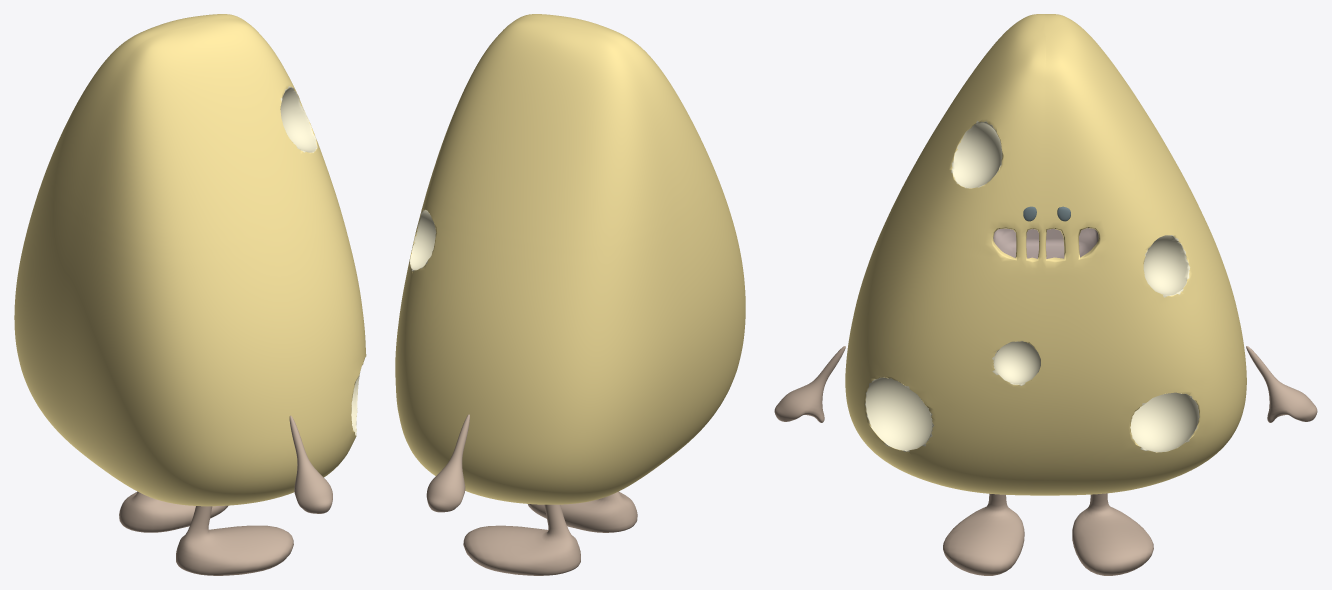
File: jerry.fbx
3 views of the same model, side by side, from view 1: azimuth 30°, elevation 25°; view 2: azimuth 150°, elevation 25°; view 3: azimuth 270°, elevation 25° (orthographic).
Visible parts, largest first — view 1: pasted__pSphere16, pasted__pSphere18, pasted__pSphere17, pasted__pasted__pSphere16; view 2: pasted__pSphere16, pasted__pSphere17, pasted__pSphere18, pasted__pasted__pSphere17; view 3: pasted__pSphere16, pasted__pSphere17, pasted__pSphere18, pasted__pasted__pSphere16, pasted__pasted__pSphere17.
Boxes of the visible parts, x1=… form: pasted__pSphere16: x1=14, y1=14, x2=366, y2=506; pasted__pSphere18: x1=176, y1=506, x2=293, y2=575; pasted__pSphere17: x1=119, y1=491, x2=228, y2=532; pasted__pasted__pSphere16: x1=289, y1=415, x2=332, y2=513; pasted__pSphere16: x1=395, y1=14, x2=745, y2=504; pasted__pSphere17: x1=463, y1=504, x2=580, y2=575; pasted__pSphere18: x1=528, y1=491, x2=637, y2=532; pasted__pasted__pSphere17: x1=426, y1=414, x2=469, y2=512; pasted__pSphere16: x1=845, y1=14, x2=1246, y2=495; pasted__pSphere17: x1=1072, y1=493, x2=1153, y2=575; pasted__pSphere18: x1=943, y1=493, x2=1024, y2=575; pasted__pasted__pSphere16: x1=774, y1=346, x2=845, y2=422; pasted__pasted__pSphere17: x1=1246, y1=346, x2=1317, y2=422.
Bounding box in the file's own units: 5.35 × 10.72 × 10.18.
